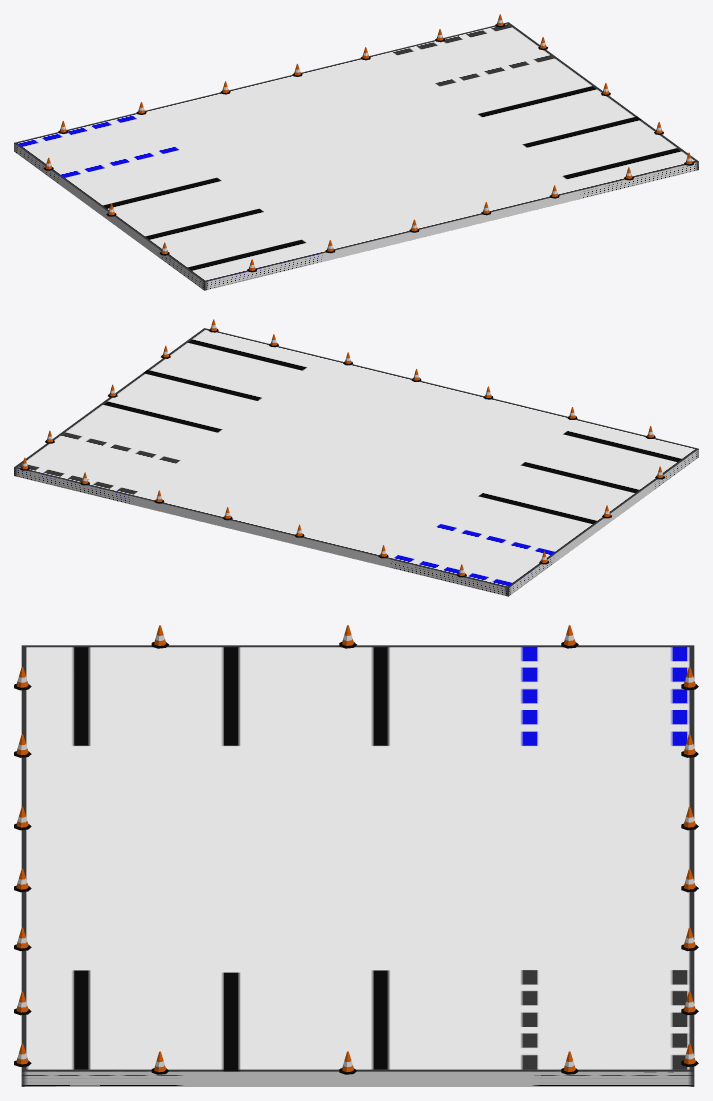
File: lvl3.glb
3 views of the same model, one above another, from view 1: azimuth 30°, elevation 25°; view 2: azimuth 150°, elevation 25°; view 3: azimuth 270°, elevation 25° (orthographic). The views are drawn at different scales.
Parts seen in each view (by area): view 1: Ground; view 2: Ground; view 3: Ground.
Boxes of the visible parts, box(x1,y1,x2,y2) form: Ground: box(14, 22, 698, 290); Ground: box(14, 328, 698, 596); Ground: box(21, 645, 694, 1086).
Size of what is drawn, in the model's own units: 61.07 by 2.29 by 40.74.
Materials: 4 (1 with a texture image).
